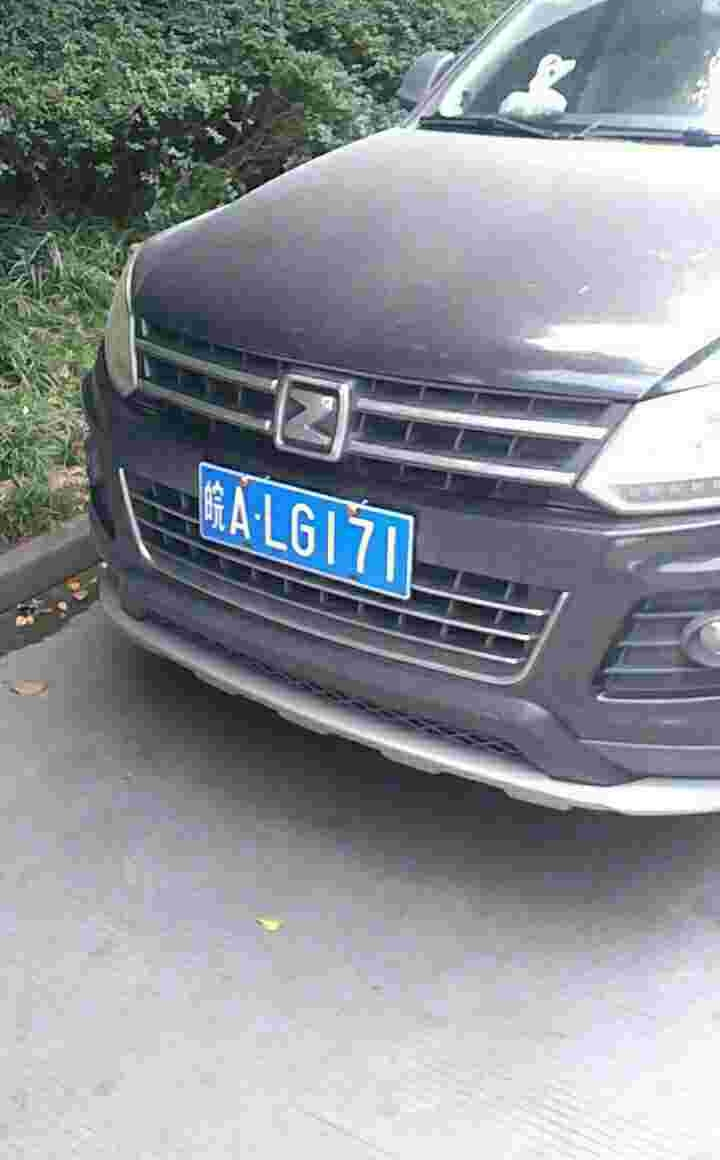license_plate: (196, 467, 415, 598)
